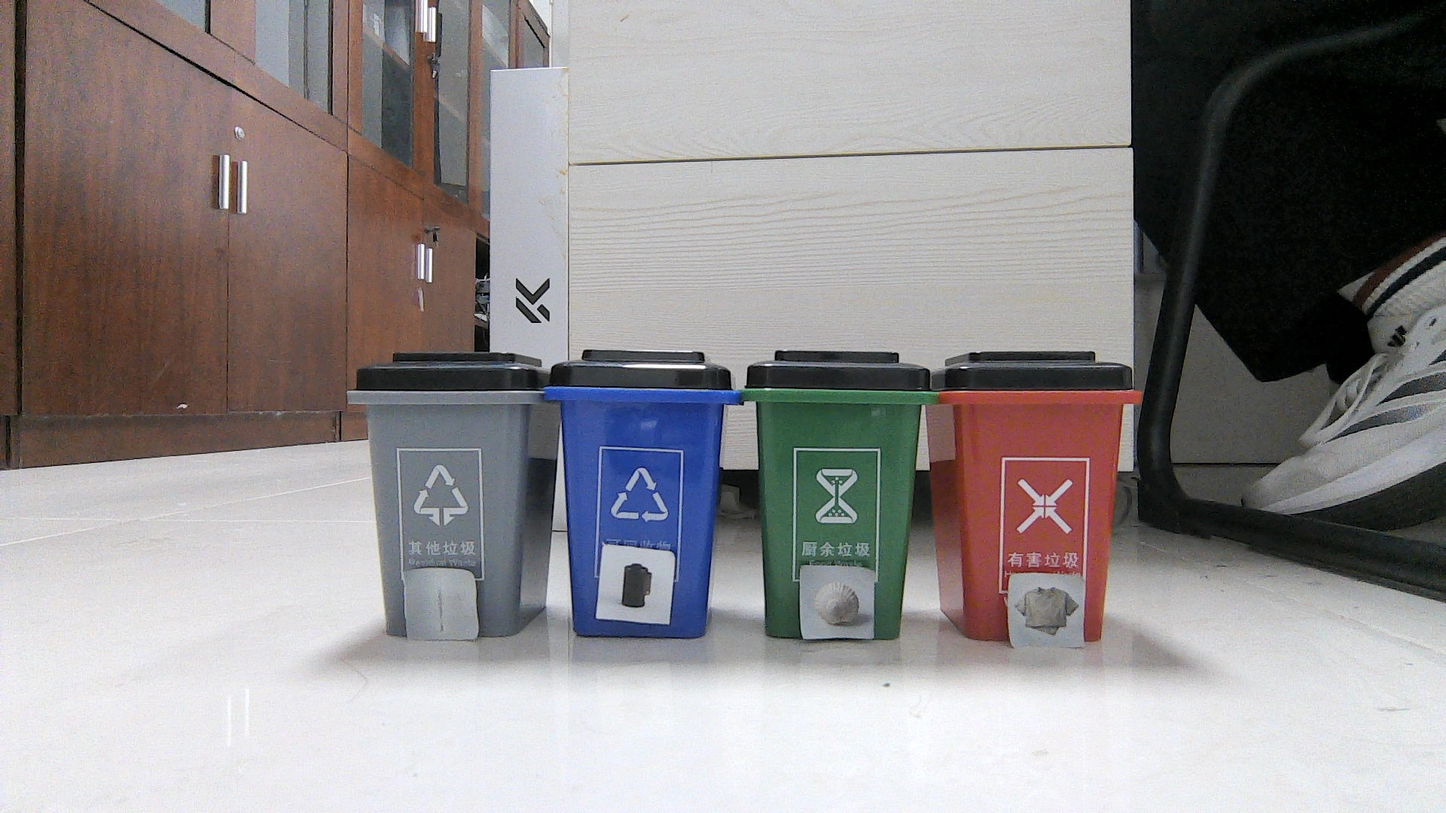hazardous_trash: (408, 571, 472, 636), (605, 549, 665, 618)
other_trash: (803, 569, 872, 635)
recyclable_trash: (1011, 576, 1083, 643)
